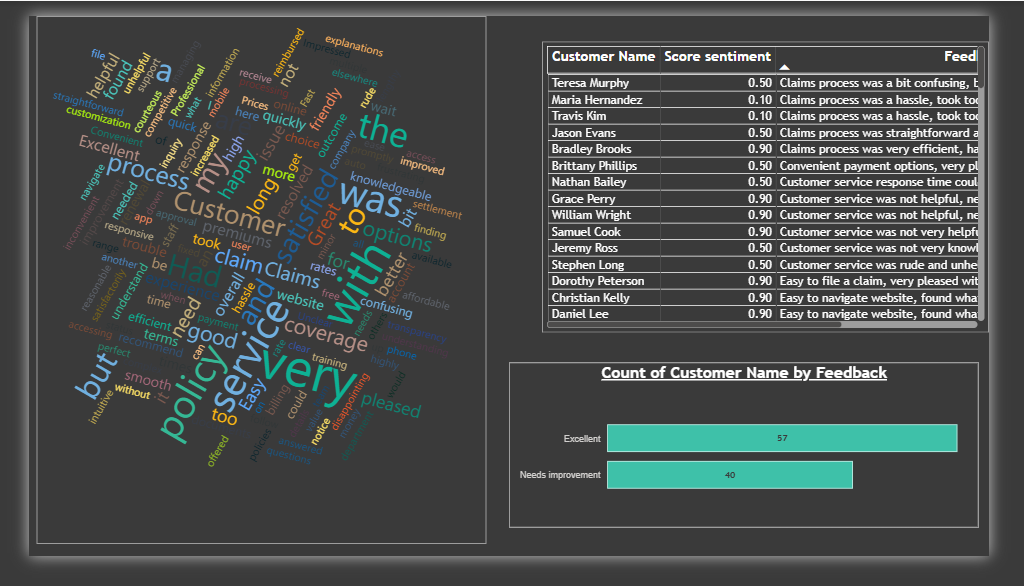

What the dashboard file says about the page in this screenshot:
{"tool":"powerbi","page":{"name":"Page 3","canvas":[1280,720],"ordinal":2},"visuals":[{"type":"WordCloud1447959067750","fields":{"Category":["Sheet1.Feedback"]},"box":[10,0,600,704],"z":0},{"type":"barChart","title":"Count of Customer Name by Feedback","fields":{"Category":["Sheet1.Good/improvement"],"Y":["CountNonNull(Sheet1.Customer Name)"]},"box":[640,462,626,220],"z":1},{"type":"tableEx","fields":{"Values":["Sheet1.Customer Name","Sheet1.Score sentiment","Sheet1.Feedback"]},"box":[684,34,596,388],"z":2}]}

Visuals, with their boxes in screenshot pixels (x1, y1, x2, y2), scaled from the page's 1280x720 canvas onto the 1024x586 screenshot:
WordCloud1447959067750 - Sheet1.Feedback: crop(8, 0, 488, 573)
"Count of Customer Name by Feedback" barChart: crop(512, 376, 1013, 555)
tableEx - Sheet1.Customer Name x Sheet1.Score sentiment: crop(547, 28, 1023, 343)
